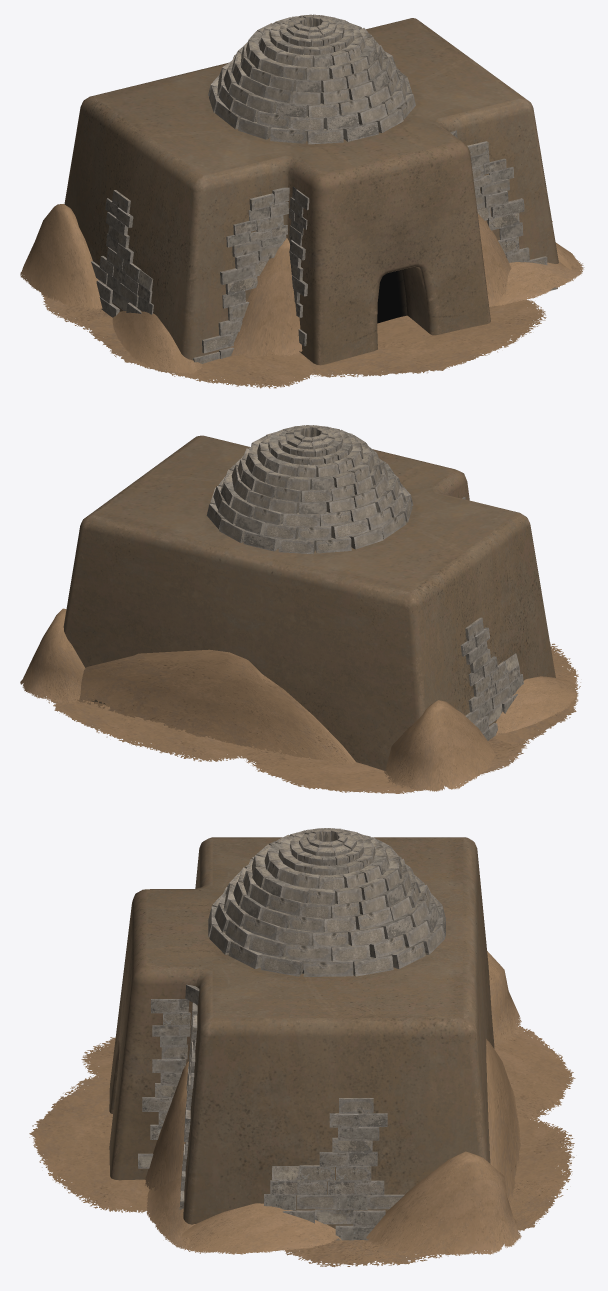
Rendered from Limestone_Burner_Construction_Stage_4.fbx.
3 views of the same model, one above another, from view 1: azimuth 30°, elevation 25°; view 2: azimuth 150°, elevation 25°; view 3: azimuth 270°, elevation 25° (orthographic). The views are drawn at different scales.
Visible parts, largest first — view 1: Limestone_Burner_Construction_S4, Limestone_Burner_ConstructionBricks_S4; view 2: Limestone_Burner_Construction_S4, Limestone_Burner_ConstructionBricks_S4; view 3: Limestone_Burner_Construction_S4, Limestone_Burner_ConstructionBricks_S4.
Part boxes in pixels (x1,y1,x2,y2): Limestone_Burner_Construction_S4: [20, 18, 584, 388]; Limestone_Burner_ConstructionBricks_S4: [208, 14, 415, 144]; Limestone_Burner_Construction_S4: [20, 435, 580, 793]; Limestone_Burner_ConstructionBricks_S4: [206, 425, 413, 554]; Limestone_Burner_Construction_S4: [29, 837, 575, 1267]; Limestone_Burner_ConstructionBricks_S4: [208, 828, 445, 976].
Size of the model in its own units: 634 by 320 by 548.
